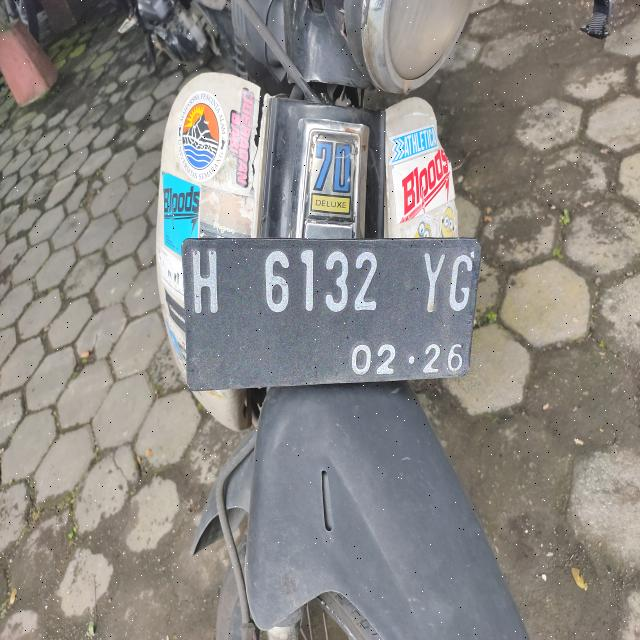plate: (183, 239, 479, 389)
